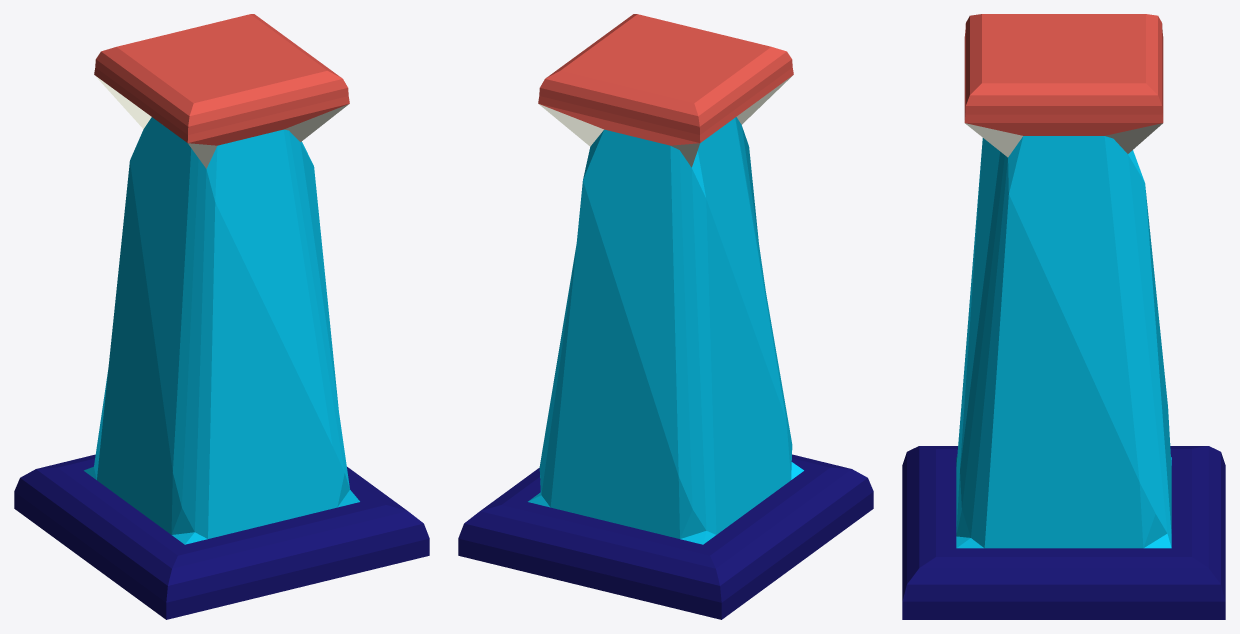
Rendered from copy_pillars.glb.
3 renders of one model, left to right at view 1: azimuth 30°, elevation 25°; view 2: azimuth 150°, elevation 25°; view 3: azimuth 270°, elevation 25°, orthographic. The views are drawn at different scales.
Parts seen in each view (by area): view 1: CopyPillar1, PlacePillar; view 2: CopyPillar1, PlacePillar; view 3: CopyPillar1, PlacePillar.
Boxes of the visible parts, <box> form: CopyPillar1: <box>14,117,429,619</box>; PlacePillar: <box>94,14,349,168</box>; CopyPillar1: <box>458,117,873,619</box>; PlacePillar: <box>538,14,793,167</box>; CopyPillar1: <box>902,136,1225,619</box>; PlacePillar: <box>964,14,1163,157</box>.
Size of the model in its own units: 3 by 5.15 by 3.
